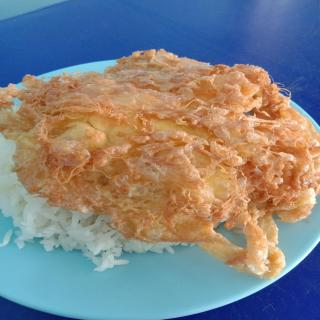carbs: (28, 204, 124, 262), (4, 142, 28, 238)
omelet_rice: (12, 56, 306, 268)
